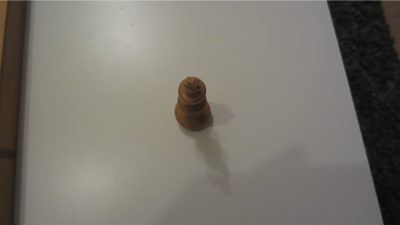white-king: (173, 76, 214, 132)
